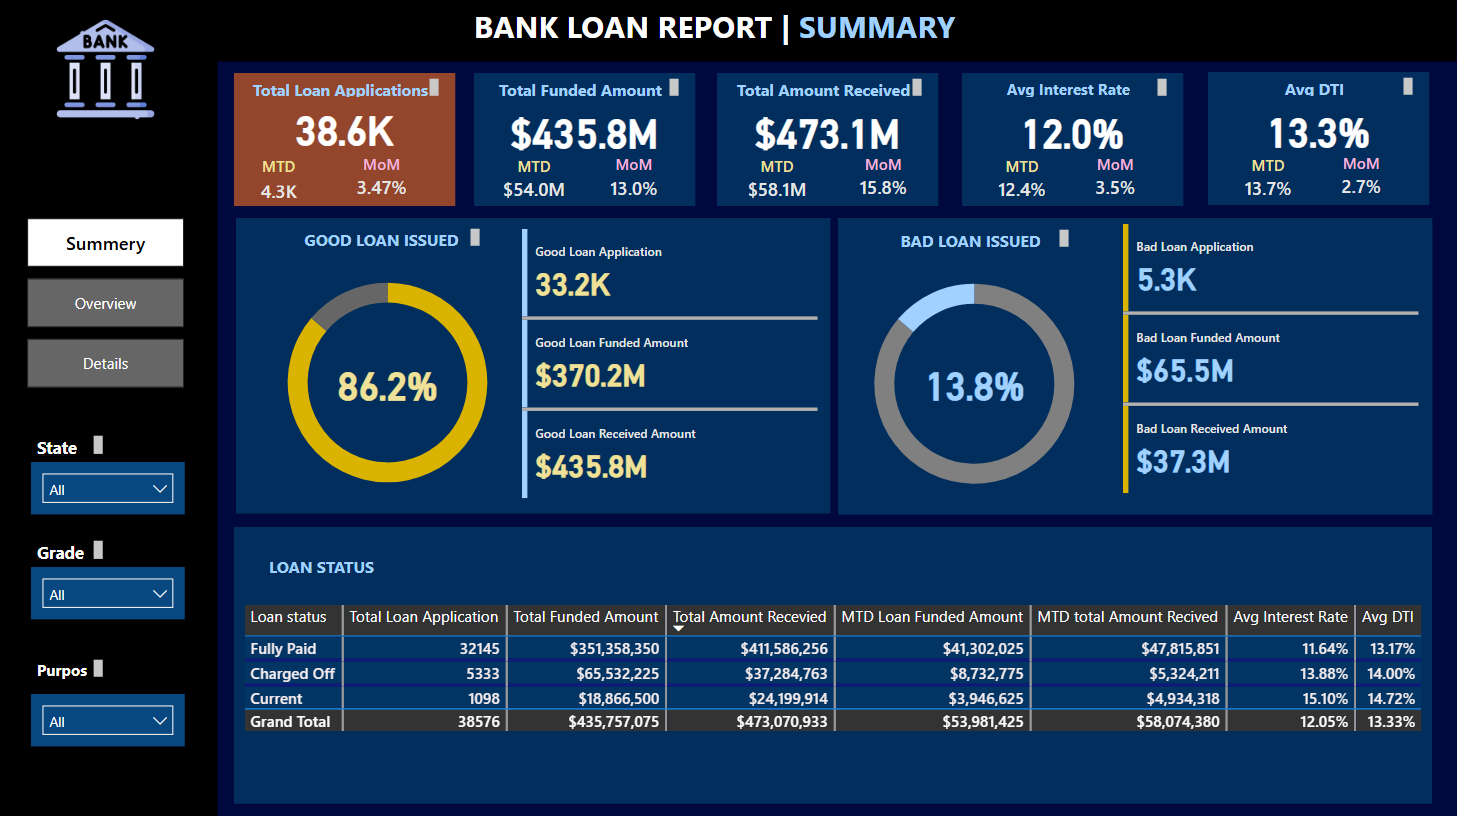

The dashboard page shown, as its layout file describes it:
{"tool":"powerbi","page":{"name":"Summery","canvas":[1280,720],"ordinal":0},"visuals":[{"type":"shape","box":[1061.2,64.2,194.5,116.7],"z":0,"group":"g5"},{"type":"shape","box":[206.2,65.2,194.5,116.7],"z":0,"group":"g1"},{"type":"shape","box":[417.3,65.2,194.5,116.7],"z":0,"group":"g2"},{"type":"shape","box":[630.3,65.2,194.5,116.7],"z":0,"group":"g3"},{"type":"shape","box":[845.2,65.2,194.5,116.7],"z":0,"group":"g4"},{"type":"shape","box":[208.1,192.6,522.3,259.7],"z":0},{"type":"shape","box":[0,36,192,683.8],"z":1000},{"type":"card","fields":{"Values":["Measures (2).Total Loan Application"]},"box":[241.2,91.5,123.5,42.8],"z":1000,"group":"g1"},{"type":"card","fields":{"Values":["Measures (2).Avg DTI"]},"box":[1066.8,92.1,182.9,44.7],"z":1000,"group":"g5"},{"type":"card","fields":{"Values":["Measures (2).Total Funded Amount"]},"box":[422.9,93.1,182.9,44.7],"z":1000,"group":"g2"},{"type":"card","fields":{"Values":["Measures (2).Total Amount Recevied"]},"box":[635.9,93.1,182.9,44.7],"z":1000,"group":"g3"},{"type":"card","fields":{"Values":["Measures (2).Avg Interest Rate"]},"box":[850.8,93.1,182.9,44.7],"z":1000,"group":"g4"},{"type":"shape","box":[0,0,1280,55],"z":2000},{"type":"textbox","box":[1070.9,64.2,175.1,26.3],"z":2000,"group":"g5"},{"type":"textbox","box":[215.9,65.2,175.1,26.3],"z":2000,"group":"g1"},{"type":"textbox","box":[427,65.2,175.1,26.3],"z":2000,"group":"g2"},{"type":"textbox","box":[640,65.2,175.1,26.3],"z":2000,"group":"g3"},{"type":"textbox","box":[854.9,65.2,175.1,26.3],"z":2000,"group":"g4"},{"type":"textbox","box":[411.4,0,457.1,47.7],"z":3000},{"type":"card","title":"MTD","fields":{"Values":["Measures (2).MTD Avg DTI"]},"box":[1072.6,137,82.7,42.8],"z":3000,"group":"g5"},{"type":"card","title":"MTD","fields":{"Values":["Measures (2).MTD Loan Funded Amount"]},"box":[428.7,138,82.7,42.8],"z":3000,"group":"g2"},{"type":"card","title":"MTD","fields":{"Values":["Measures (2).MTD total Amount Recived"]},"box":[641.7,138,82.7,42.8],"z":3000,"group":"g3"},{"type":"card","title":"MTD","fields":{"Values":["Measures (2).MTD Avg Int Rate"]},"box":[856.6,138,82.7,42.8],"z":3000,"group":"g4"},{"type":"card","title":"MTD","fields":{"Values":["Measures (2).MTD Loan Application"]},"box":[215.9,138.1,59.3,39.9],"z":3000,"group":"g1"},{"type":"card","title":"MoM","fields":{"Values":["Measures (2).MOM DTI"]},"box":[1167,135,58.4,44.7],"z":4000,"group":"g5"},{"type":"card","title":"MoM","fields":{"Values":["Measures (2).MOM Funded Amount"]},"box":[523.1,136,70,46.7],"z":4000,"group":"g2"},{"type":"card","title":"MoM","fields":{"Values":["Measures (2).MOM Total Amont Receivd"]},"box":[741.9,136,69.1,44.7],"z":4000,"group":"g3"},{"type":"card","title":"MoM","fields":{"Values":["Measures (2).MOM Avg int Rate"]},"box":[951,136,58.4,44.7],"z":4000,"group":"g4"},{"type":"card","title":"MoM","fields":{"Values":["Measures (2).MOM Total Application"]},"box":[307.4,136.2,57.4,45.7],"z":4000,"group":"g1"},{"type":"card","fields":{"Values":["Measures (2).Good Loan %"]},"box":[282.1,315.1,118.7,44.7],"z":4000},{"type":"textbox","box":[251.9,196.5,175.1,26.3],"z":5000},{"type":"group","id":"g1","title":"Group 1","box":[206.2,65.2,194.5,116.7],"z":6000},{"type":"group","id":"g2","title":"Group 1","box":[417.3,65.2,194.5,117.5],"z":7000},{"type":"group","id":"g3","title":"Group 1","box":[630.3,65.2,194.5,116.7],"z":8000},{"type":"group","id":"g4","title":"Group 1","box":[845.2,65.2,194.5,116.7],"z":9000},{"type":"group","id":"g5","title":"Group 1","box":[1061.2,64.2,194.5,116.7],"z":10000},{"type":"donutChart","fields":{"Category":["financial_loan.Good And Bad Loan"],"Y":["Measures (2).Total Loan Application"]},"box":[216,222.1,250.2,229.2],"z":11000},{"type":"shape","box":[736.3,192.6,522.3,260.7],"z":12000},{"type":"cardVisual","fields":{"Data":["Measures (2).Good Loan Application","Measures (2).Good Loan Funded Ammount","Measures (2).Good Loan Received Ammount"]},"box":[454.2,196.5,270.4,247.1],"z":13000},{"type":"donutChart","fields":{"Category":["financial_loan.Good And Bad Loan"],"Y":["Measures (2).Total Loan Application"]},"box":[731.4,222.7,250,229.5],"z":14000},{"type":"card","fields":{"Values":["Measures (2).Bad Loan %"]},"box":[797.6,315.1,118.7,44.7],"z":15000},{"type":"cardVisual","fields":{"Data":["Measures (2).Bad Loan Application","Measures (2).Bad Loan Funded Ammount","Measures (2).Bad Loan Received Ammount"]},"box":[981.4,192.6,270.4,247.1],"z":16000},{"type":"textbox","box":[769.4,197.4,175.1,26.3],"z":17000},{"type":"shape","box":[206.2,464,1052.4,243.2],"z":18000},{"type":"tableEx","fields":{"Values":["financial_loan.loan_status","Measures (2).Total Loan Application","Measures (2).Total Funded Amount","Measures (2).Total Amount Recevied","Measures (2).MTD Loan Funded Amount","Measures (2).MTD total Amount Recived","Measures (2).Avg Interest Rate","Measures (2).Avg DTI"]},"box":[210.1,527.2,1055.3,151.7],"z":19000},{"type":"textbox","box":[215.9,483.4,138.1,30.2],"z":20000},{"type":"slicer","fields":{"Values":["financial_loan.address_state"]},"box":[28.2,406.6,135.2,45.7],"z":21000},{"type":"textbox","box":[28.2,378.4,68.1,28.2],"z":22000},{"type":"slicer","fields":{"Values":["financial_loan.sub_grade"]},"box":[28.2,499,135.2,45.7],"z":23000},{"type":"textbox","box":[28.2,470.8,68.1,28.2],"z":24000},{"type":"slicer","fields":{"Values":["financial_loan.purpose"]},"box":[28.2,609.8,135.2,45.7],"z":25000},{"type":"textbox","box":[28.2,574.8,68.1,28.2],"z":26000},{"type":"image","box":[43,9.7,101,102.7],"z":27000},{"type":"pageNavigator","box":[24.6,192.3,138.7,149.3],"z":28000}]}

Visuals, with their boxes in screenshot pixels (x1, y1, x2, y2), scaled from the page's 1280x720 canvas onto the 1457x816 screenshot:
shape: bbox=[1208, 73, 1429, 205]
shape: bbox=[235, 74, 456, 206]
shape: bbox=[475, 74, 696, 206]
shape: bbox=[717, 74, 939, 206]
shape: bbox=[962, 74, 1183, 206]
shape: bbox=[237, 218, 831, 513]
shape: bbox=[0, 41, 219, 815]
card - Measures (2).Total Loan Application: bbox=[275, 104, 415, 152]
card - Measures (2).Avg DTI: bbox=[1214, 104, 1423, 155]
card - Measures (2).Total Funded Amount: bbox=[481, 106, 690, 156]
card - Measures (2).Total Amount Recevied: bbox=[724, 106, 932, 156]
card - Measures (2).Avg Interest Rate: bbox=[968, 106, 1177, 156]
shape: bbox=[0, 0, 1456, 62]
textbox: bbox=[1219, 73, 1418, 103]
textbox: bbox=[246, 74, 445, 104]
textbox: bbox=[486, 74, 685, 104]
textbox: bbox=[728, 74, 928, 104]
textbox: bbox=[973, 74, 1172, 104]
textbox: bbox=[468, 0, 989, 54]
"MTD" card: bbox=[1221, 155, 1315, 204]
"MTD" card: bbox=[488, 156, 582, 205]
"MTD" card: bbox=[730, 156, 825, 205]
"MTD" card: bbox=[975, 156, 1069, 205]
"MTD" card: bbox=[246, 157, 313, 202]
"MoM" card: bbox=[1328, 153, 1395, 204]
"MoM" card: bbox=[595, 154, 675, 207]
"MoM" card: bbox=[844, 154, 923, 205]
"MoM" card: bbox=[1083, 154, 1149, 205]
"MoM" card: bbox=[350, 154, 415, 206]
card - Measures (2).Good Loan %: bbox=[321, 357, 456, 408]
textbox: bbox=[287, 223, 486, 253]
"Group 1" group: bbox=[235, 74, 456, 206]
"Group 1" group: bbox=[475, 74, 696, 207]
"Group 1" group: bbox=[717, 74, 939, 206]
"Group 1" group: bbox=[962, 74, 1183, 206]
"Group 1" group: bbox=[1208, 73, 1429, 205]
donutChart - financial_loan.Good And Bad Loan x Measures (2).Total Loan Application: bbox=[246, 252, 531, 511]
shape: bbox=[838, 218, 1433, 514]
cardVisual - Measures (2).Good Loan Application x Measures (2).Good Loan Funded Ammount: bbox=[517, 223, 825, 503]
donutChart - financial_loan.Good And Bad Loan x Measures (2).Total Loan Application: bbox=[833, 252, 1117, 512]
card - Measures (2).Bad Loan %: bbox=[908, 357, 1043, 408]
cardVisual - Measures (2).Bad Loan Application x Measures (2).Bad Loan Funded Ammount: bbox=[1117, 218, 1425, 498]
textbox: bbox=[876, 224, 1075, 254]
shape: bbox=[235, 526, 1433, 801]
tableEx - financial_loan.loan_status x Measures (2).Total Loan Application: bbox=[239, 597, 1440, 769]
textbox: bbox=[246, 548, 403, 582]
slicer - financial_loan.address_state: bbox=[32, 461, 186, 513]
textbox: bbox=[32, 429, 110, 461]
slicer - financial_loan.sub_grade: bbox=[32, 566, 186, 617]
textbox: bbox=[32, 534, 110, 566]
slicer - financial_loan.purpose: bbox=[32, 691, 186, 743]
textbox: bbox=[32, 651, 110, 683]
image: bbox=[49, 11, 164, 127]
pageNavigator: bbox=[28, 218, 186, 387]
